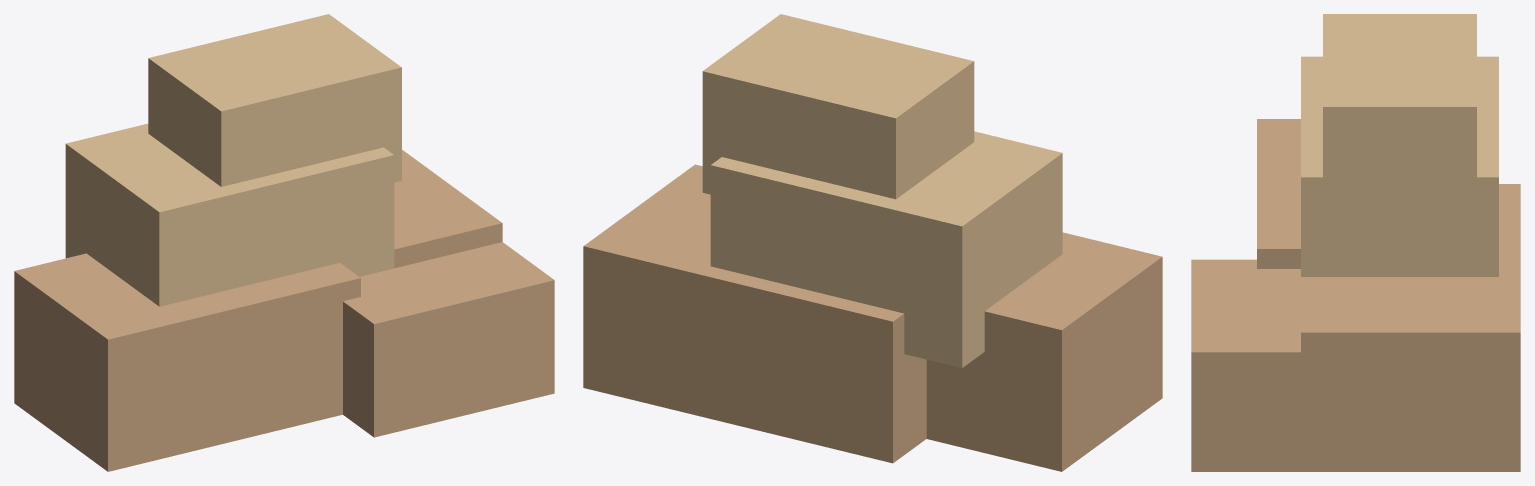
Rendered from savanna_rock_pile.glb.
3 renders of one model, left to right at view 1: azimuth 30°, elevation 25°; view 2: azimuth 150°, elevation 25°; view 3: azimuth 270°, elevation 25°, orthographic. The views are drawn at different scales.
Bounding box in the file's own units: 0.9583 × 0.6667 × 0.625.
